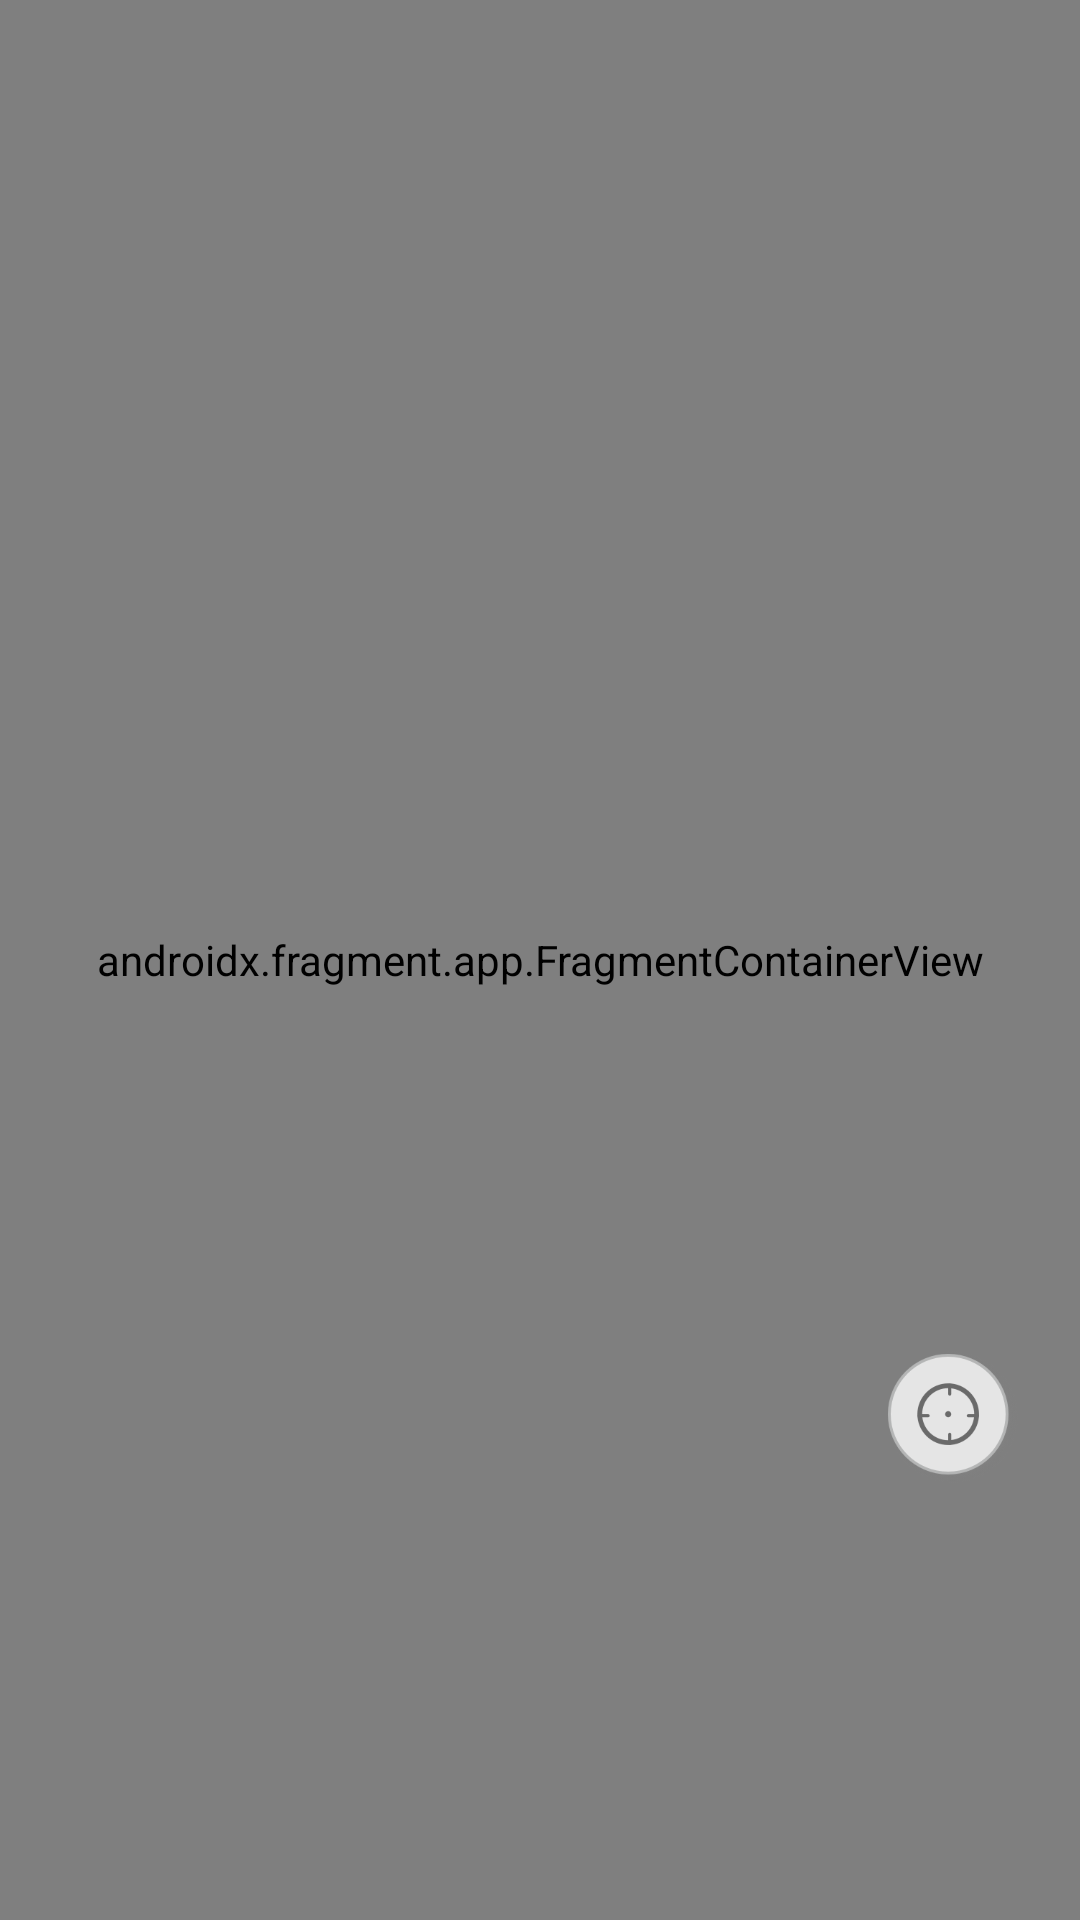

Screen size 1080*1920. Icon name, then its box in pixels as {"x1": x1, "y1": y1, "x2": x2, "y2": y2}:
location: {"x1": 888, "y1": 1354, "x2": 1009, "y2": 1475}
